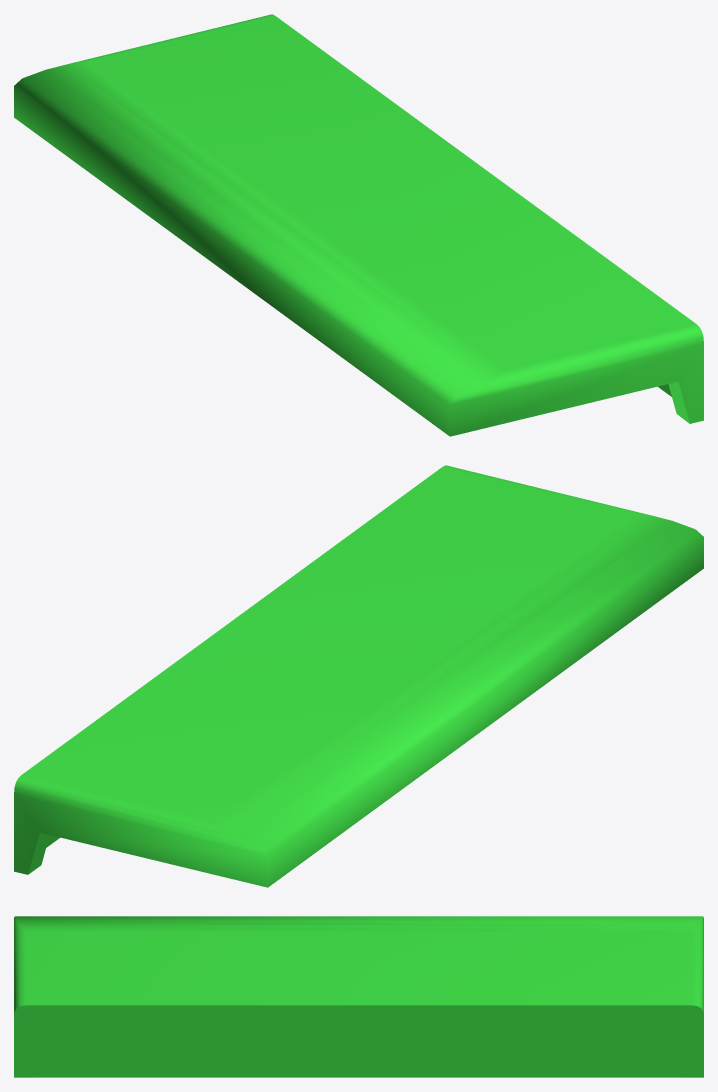
The model's file is escalónGrande.FBX.
3 views of the same model, one above another, from view 1: azimuth 30°, elevation 25°; view 2: azimuth 150°, elevation 25°; view 3: azimuth 270°, elevation 25° (orthographic). The views are drawn at different scales.
Visible parts, largest first — view 1: granEscalon; view 2: granEscalon; view 3: granEscalon.
Part boxes in pixels (x1,y1,x2,y2): granEscalon: [14, 14, 703, 436]; granEscalon: [14, 465, 703, 887]; granEscalon: [14, 916, 703, 1077].
Bounding box in the file's own units: 67.46 × 23.13 × 201.
